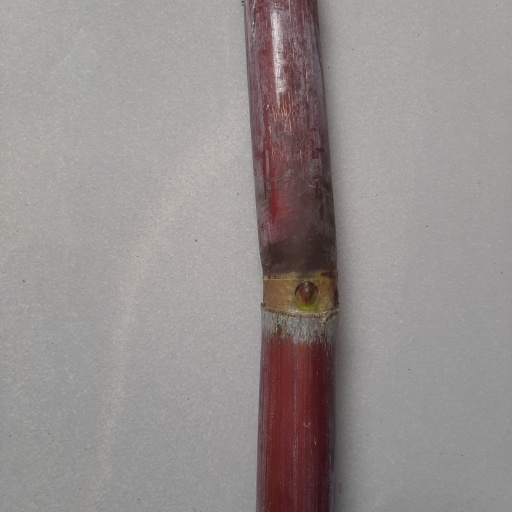Bud: (292, 280, 320, 308)
